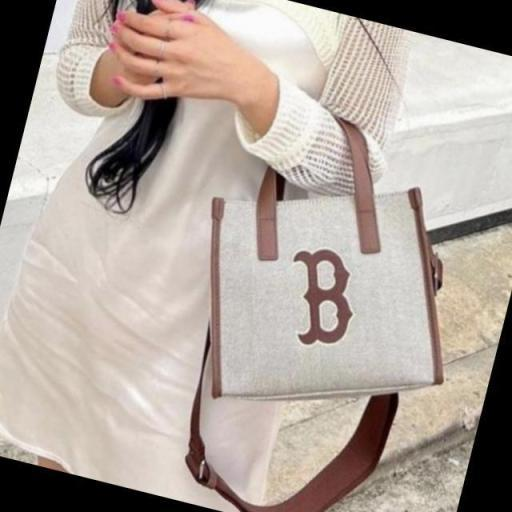bag: (198, 160, 462, 410)
